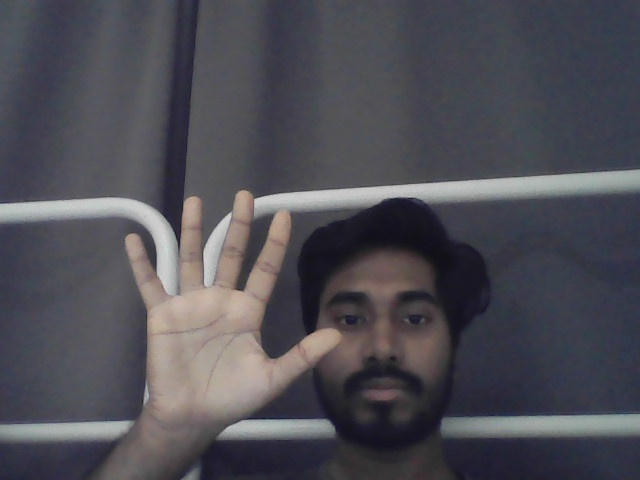hello: (114, 187, 344, 428)
